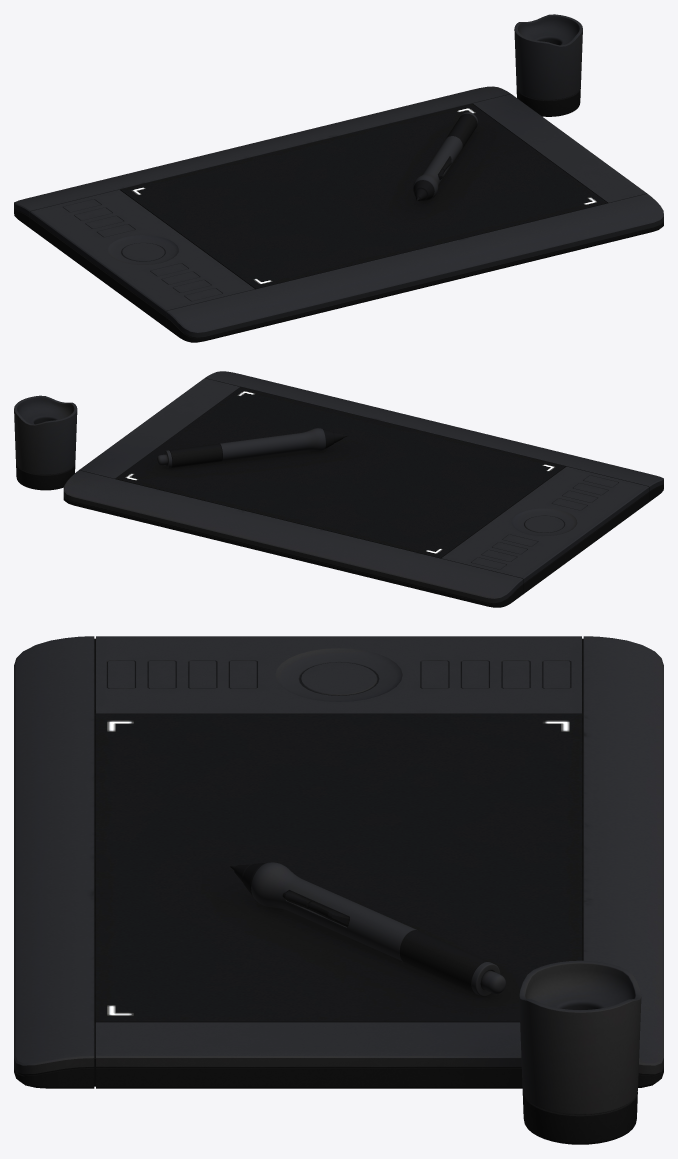
The model's file is tablet.glb.
3 views of the same model, one above another, from view 1: azimuth 30°, elevation 25°; view 2: azimuth 150°, elevation 25°; view 3: azimuth 270°, elevation 25° (orthographic). The views are drawn at different scales.
Visible parts, largest first — view 1: Tablet_Aa_001; view 2: Tablet_Aa_001; view 3: Tablet_Aa_001.
Part boxes in pixels (bbox=[...]): Tablet_Aa_001: bbox=[14, 14, 663, 342]; Tablet_Aa_001: bbox=[14, 371, 663, 607]; Tablet_Aa_001: bbox=[14, 636, 663, 1144].
Size of the model in its own units: 2.51 by 0.3308 by 1.44.
Materials: 1 (1 with a texture image).
